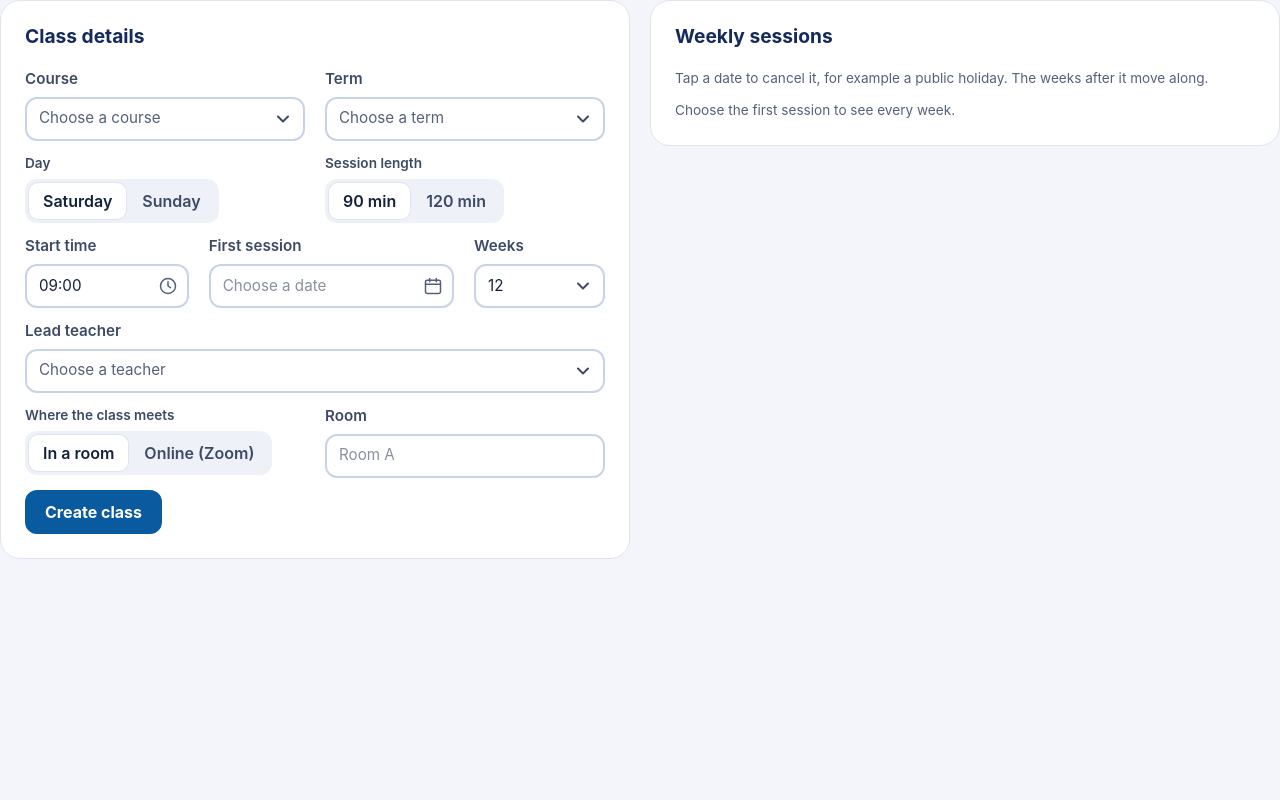
Test case: NewClassForm › explains at once when the first date is on the wrong day, and blocks saving
This screenshot has width=1280, height=800.
Click the radio button labelled "Sunday".
click(172, 201)  # box 142,191 -> 201,211
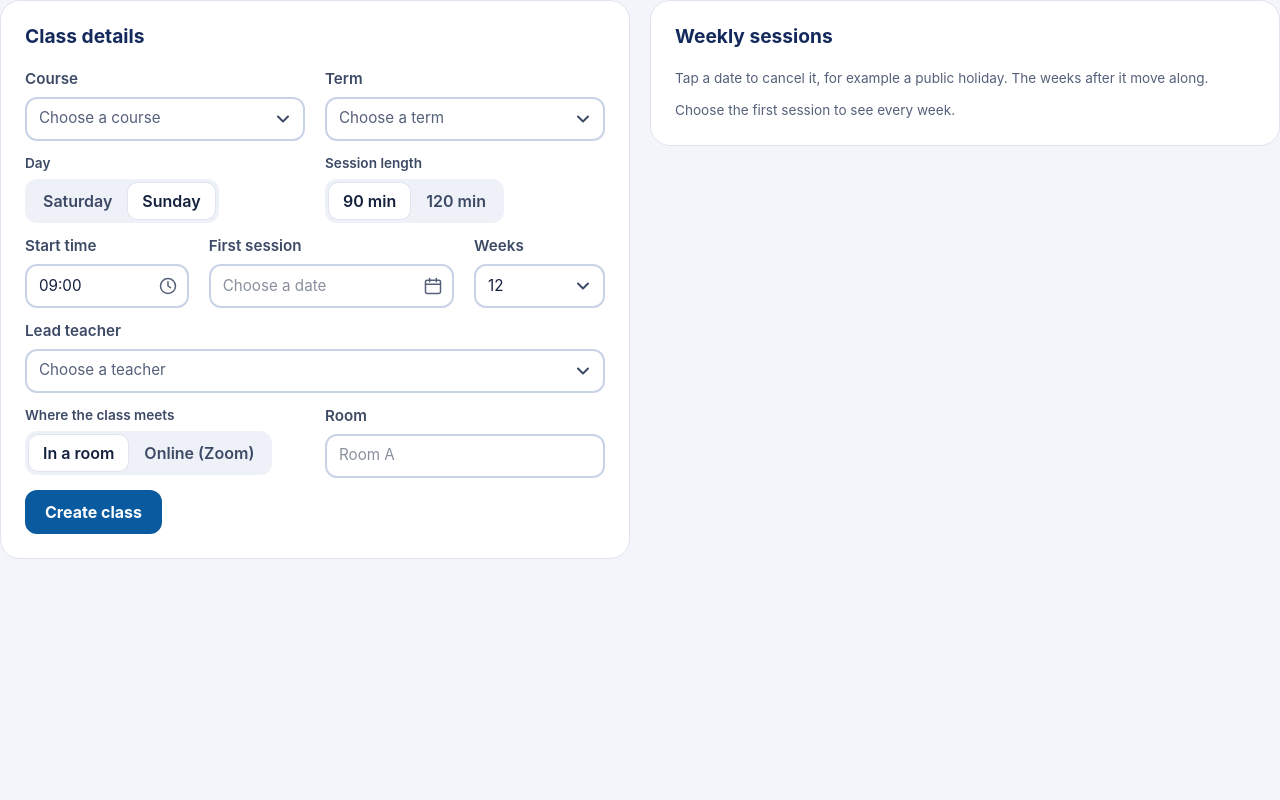
Type "2027-01-09" into the dropdown labelled "First session".
click(331, 286); type("2027-01-09")  # box 209,264 -> 454,308
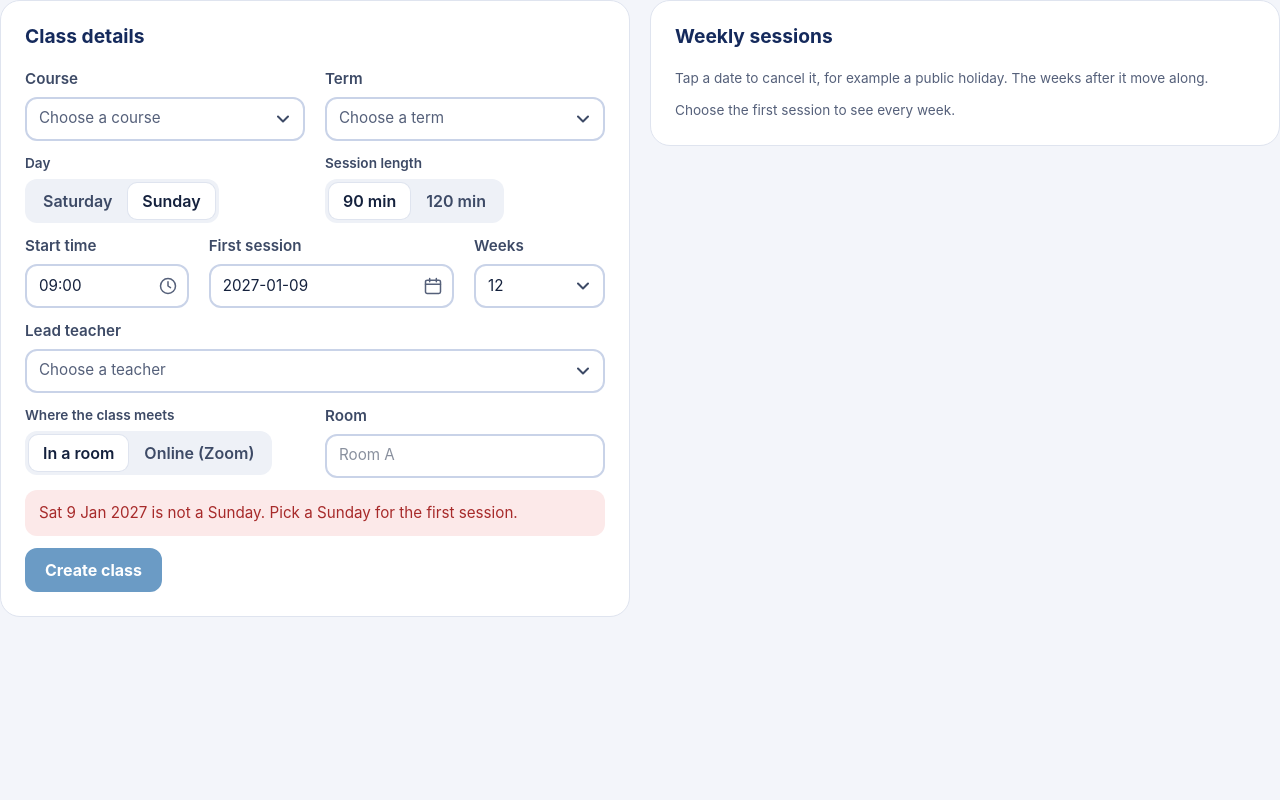
Now the message reads "Sat 9 Jan 2027 is not a Sunday. Pick a Sunday for the first session.", box 39,503 -> 518,522
Now the button "Create class" is disabled, box 25,548 -> 162,592
